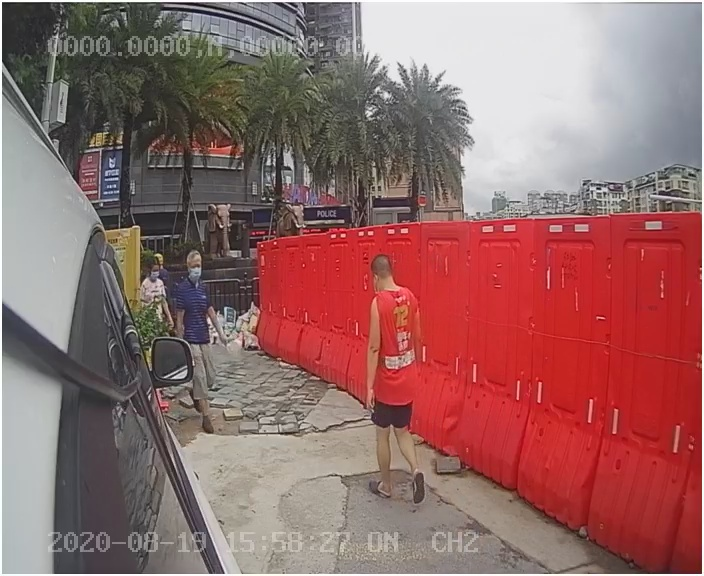person: (347, 255, 449, 508)
